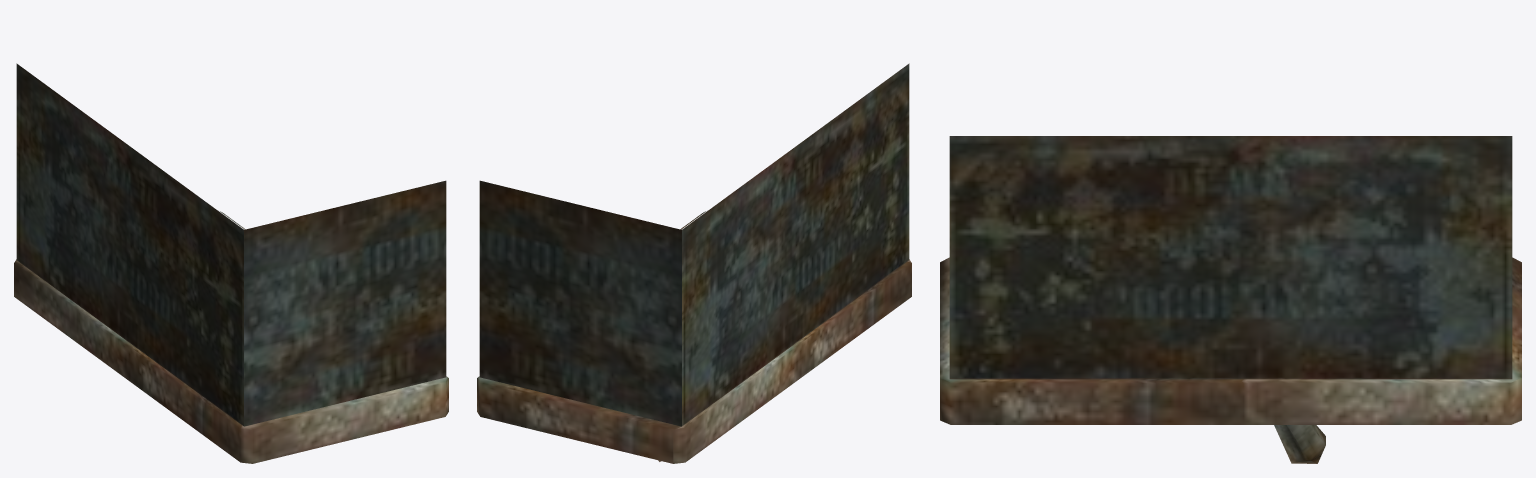
File: prop_bunkerlightswitch.glb
3 views of the same model, side by side, from view 1: azimuth 30°, elevation 25°; view 2: azimuth 150°, elevation 25°; view 3: azimuth 270°, elevation 25° (orthographic). The views are drawn at different scales.
Bounding box in the file's own units: 3.27 × 4.73 × 6.41.
1 material, 1 textured.
